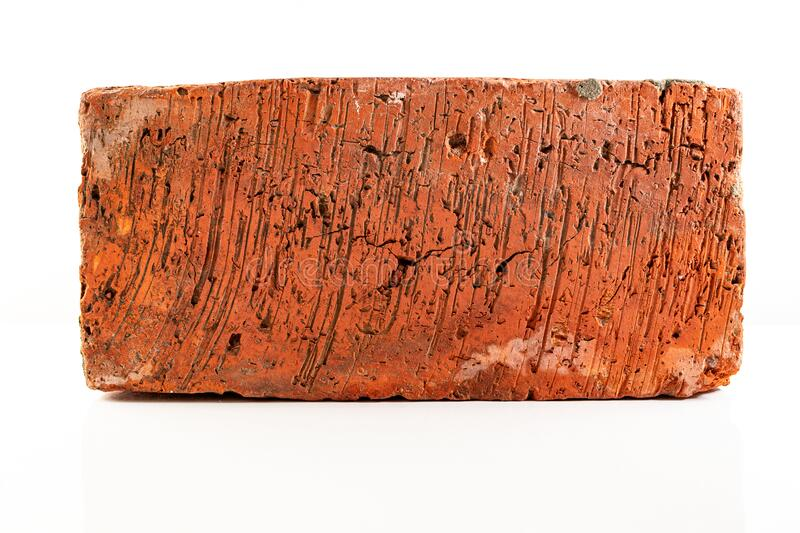brick: (81, 89, 739, 392)
